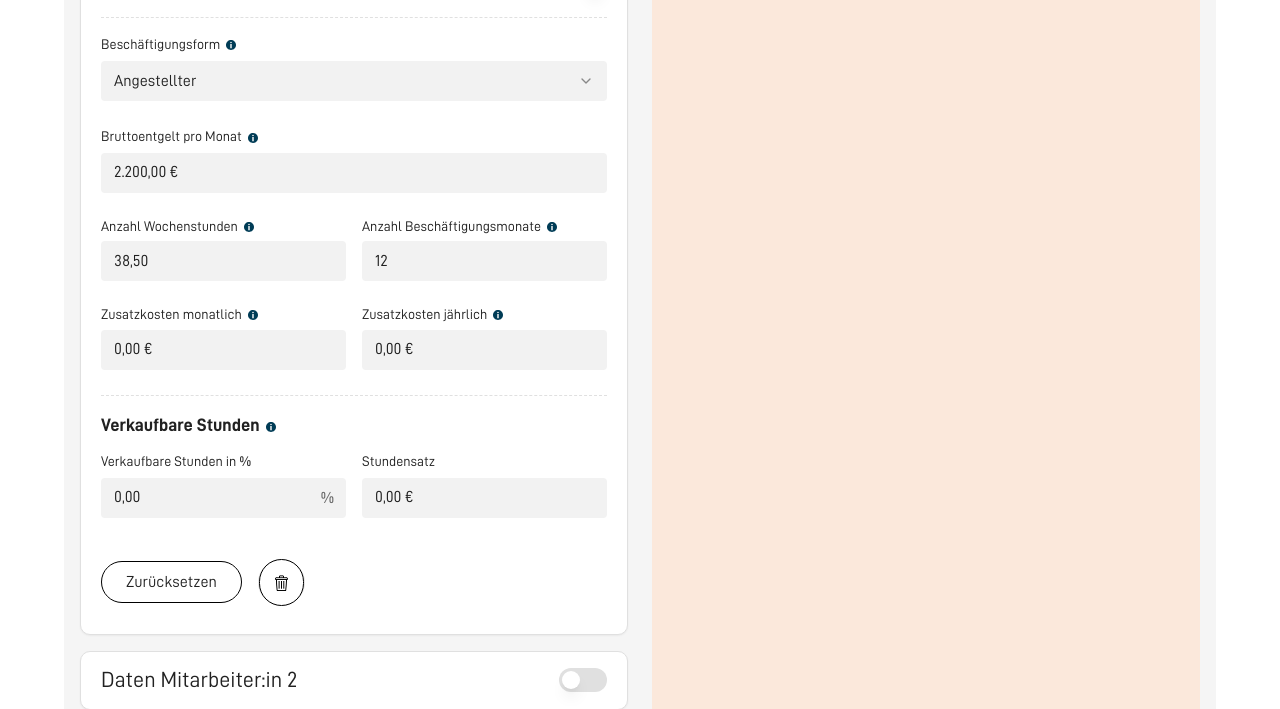
Test case: Calculator page › keeps monthly and yearly additional employee costs in sync
(page scrolled)
Click the field named "Daten Mitarbeiter 1: Zusatzkosten monatlich".
click(224, 350)  # box [101,330,346,370]
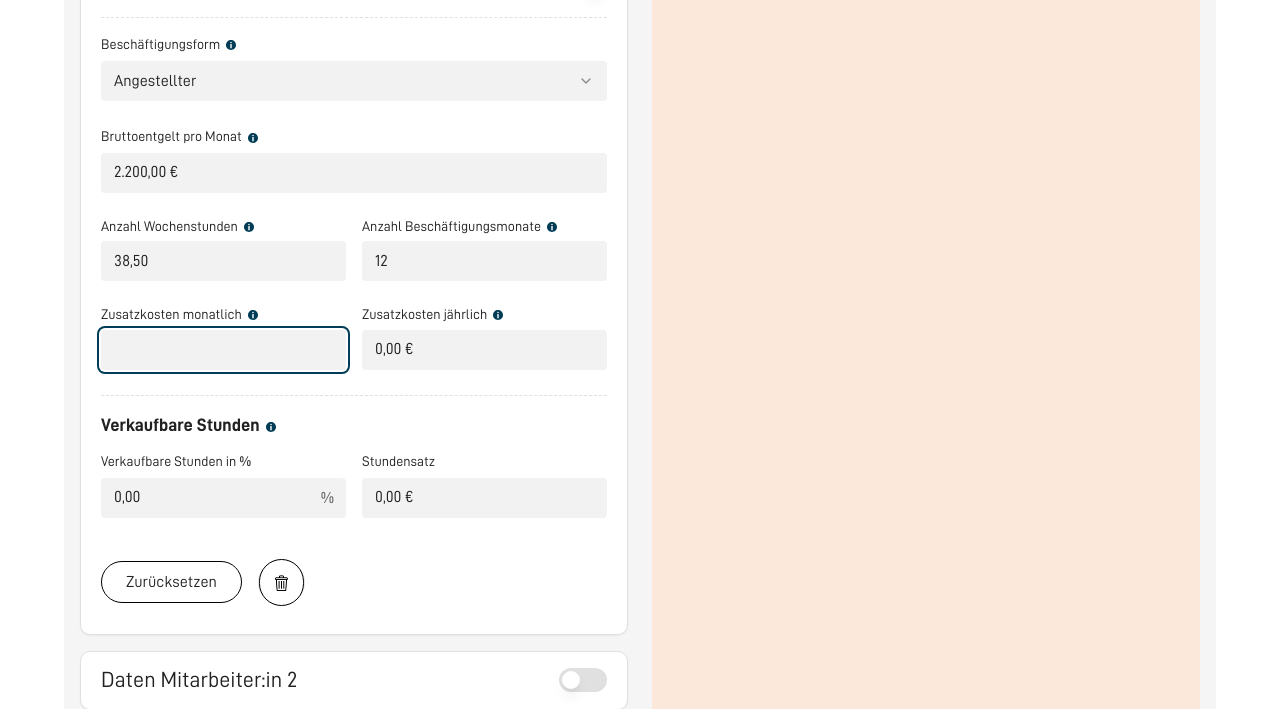
Type keys "120"
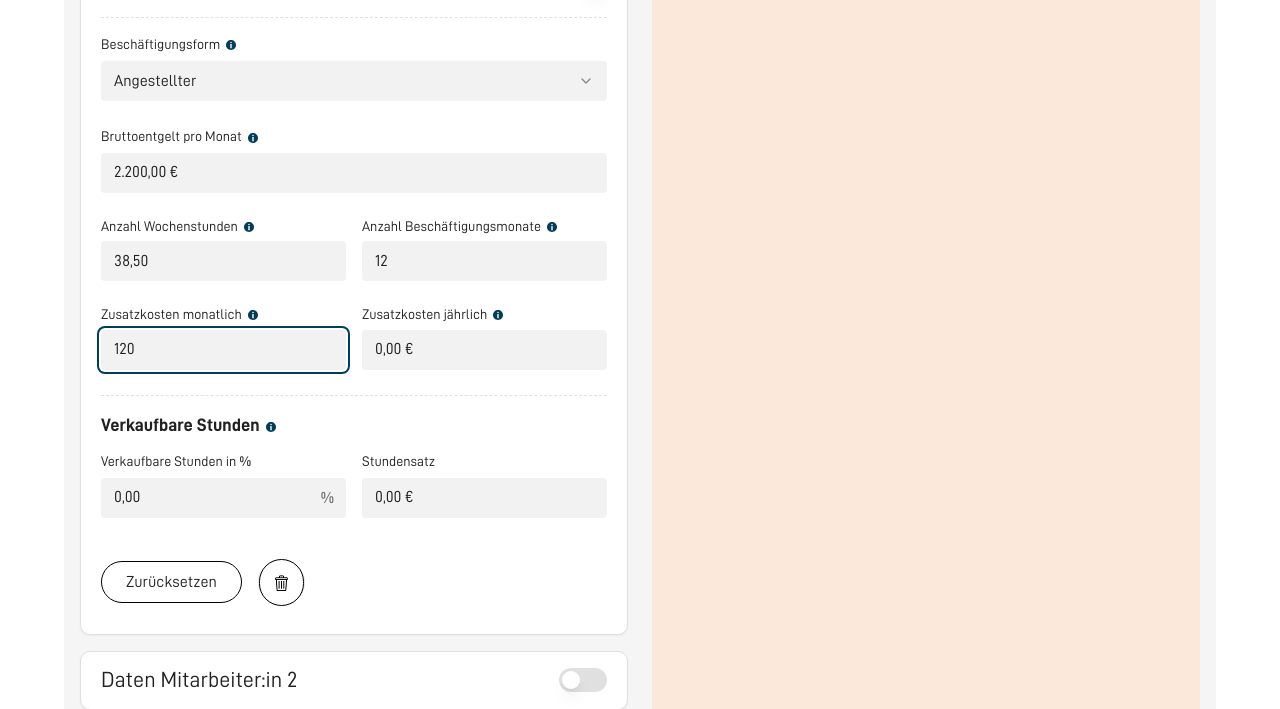
Press Tab
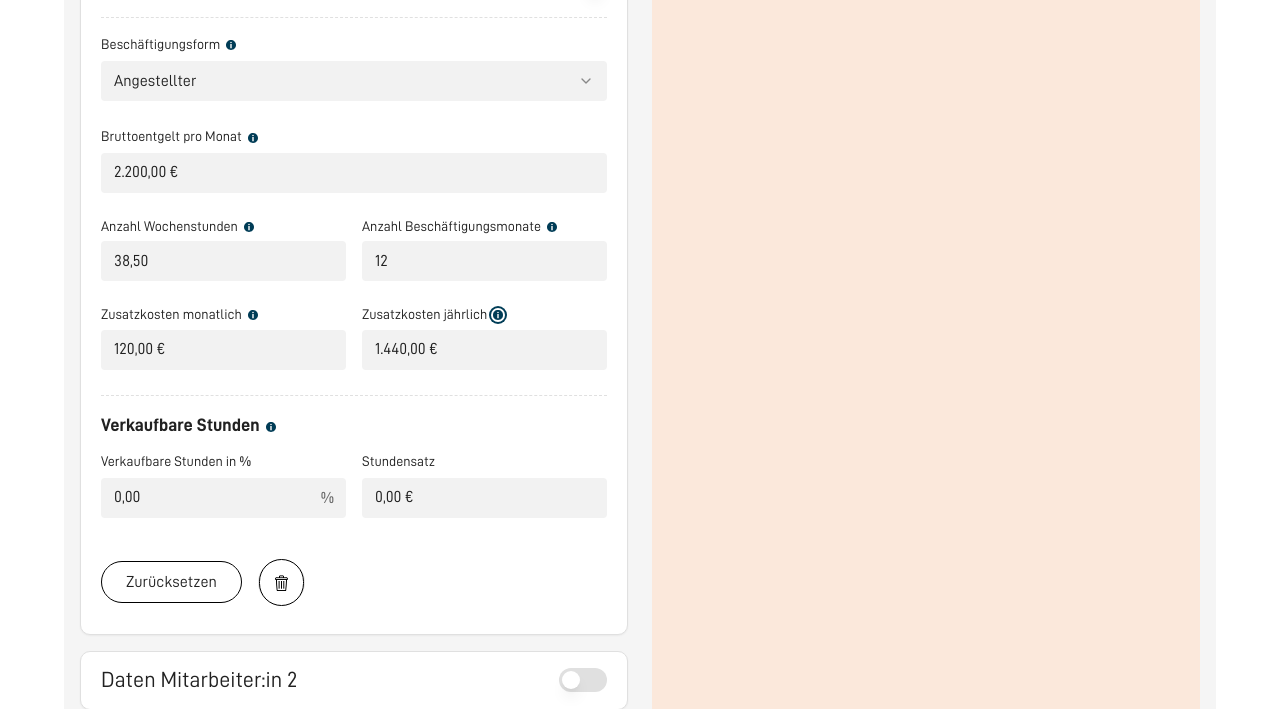
Check: the field named "Daten Mitarbeiter 1: Zusatzkosten monatlich" holds "120,00 €", box [101,330,346,370]
Check: the field named "Daten Mitarbeiter 1: Zusatzkosten jährlich" holds "1.440,00 €"
Clear the field named "Daten Mitarbeiter 1: Zusatzkosten jährlich" at (484, 350), box [362,330,607,370]
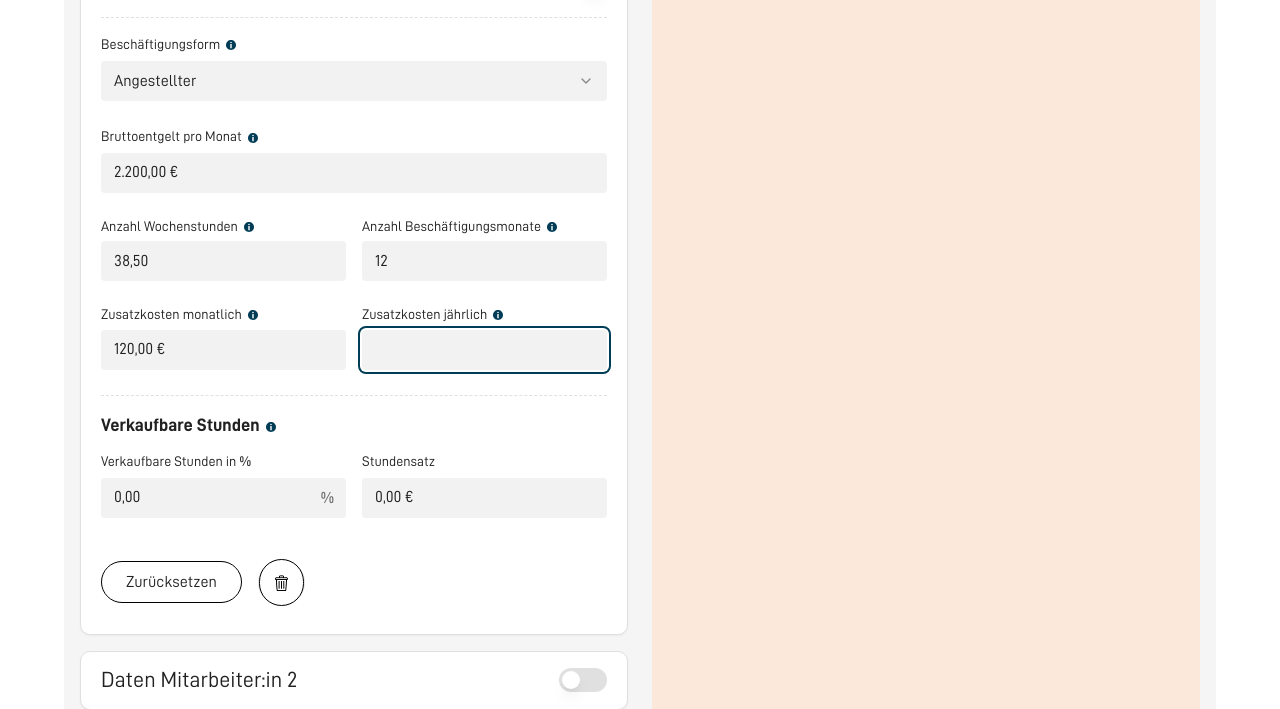
Type keys "2400"
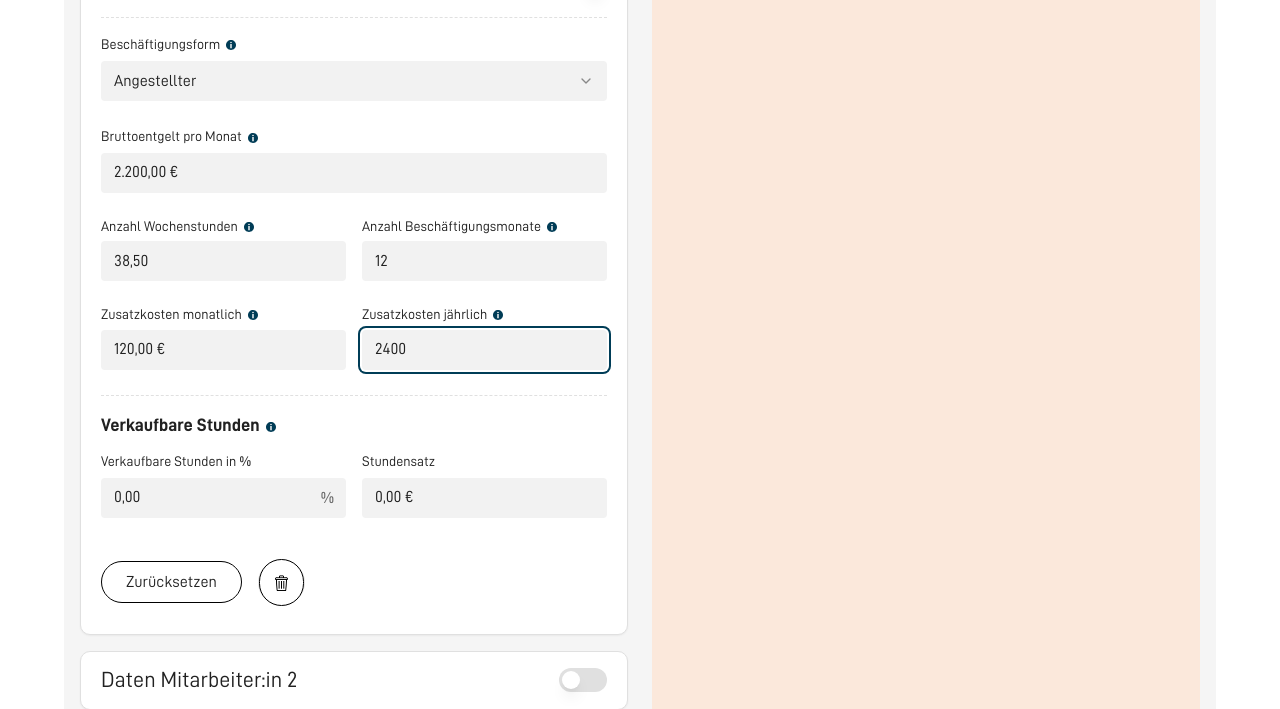
Press Tab
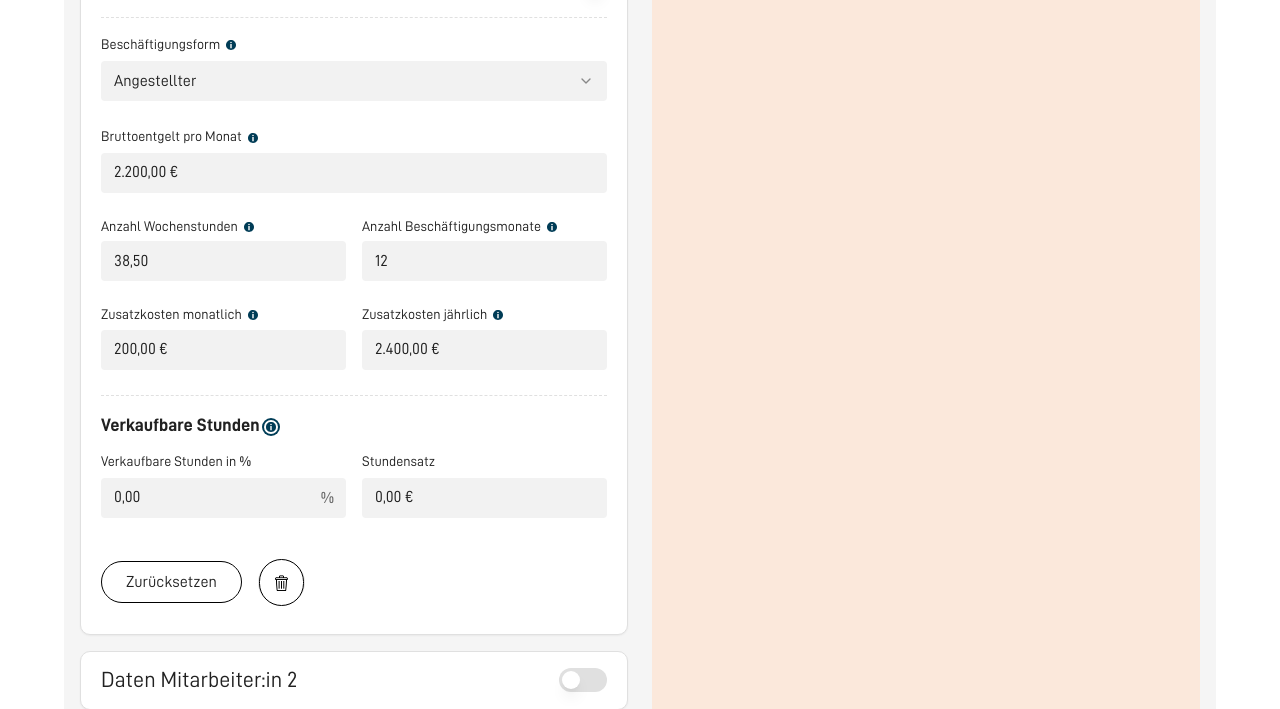
Check: the field named "Daten Mitarbeiter 1: Zusatzkosten monatlich" holds "200,00 €", box [101,330,346,370]
Check: the field named "Daten Mitarbeiter 1: Zusatzkosten jährlich" holds "2.400,00 €", box [362,330,607,370]
